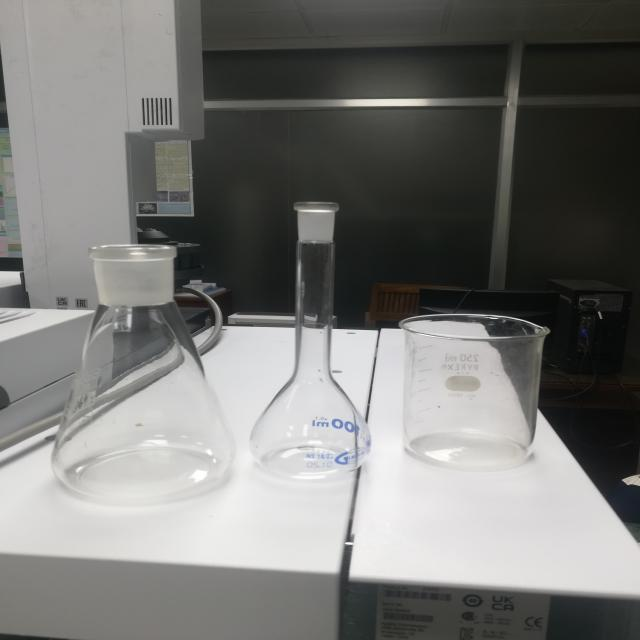Beaker: (385, 286, 564, 480)
Conical_Flask: (48, 220, 237, 507)
Volumetric_Flask: (250, 197, 371, 484)
